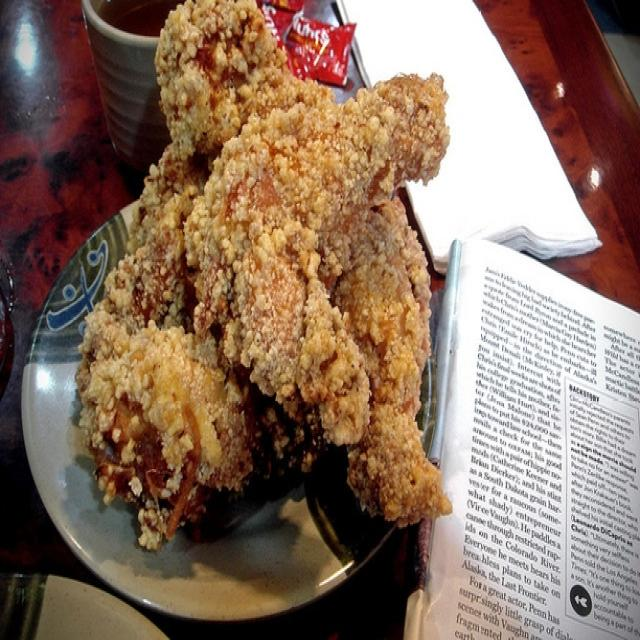鸡肉料理 含炸鸡: (69, 9, 443, 565)
